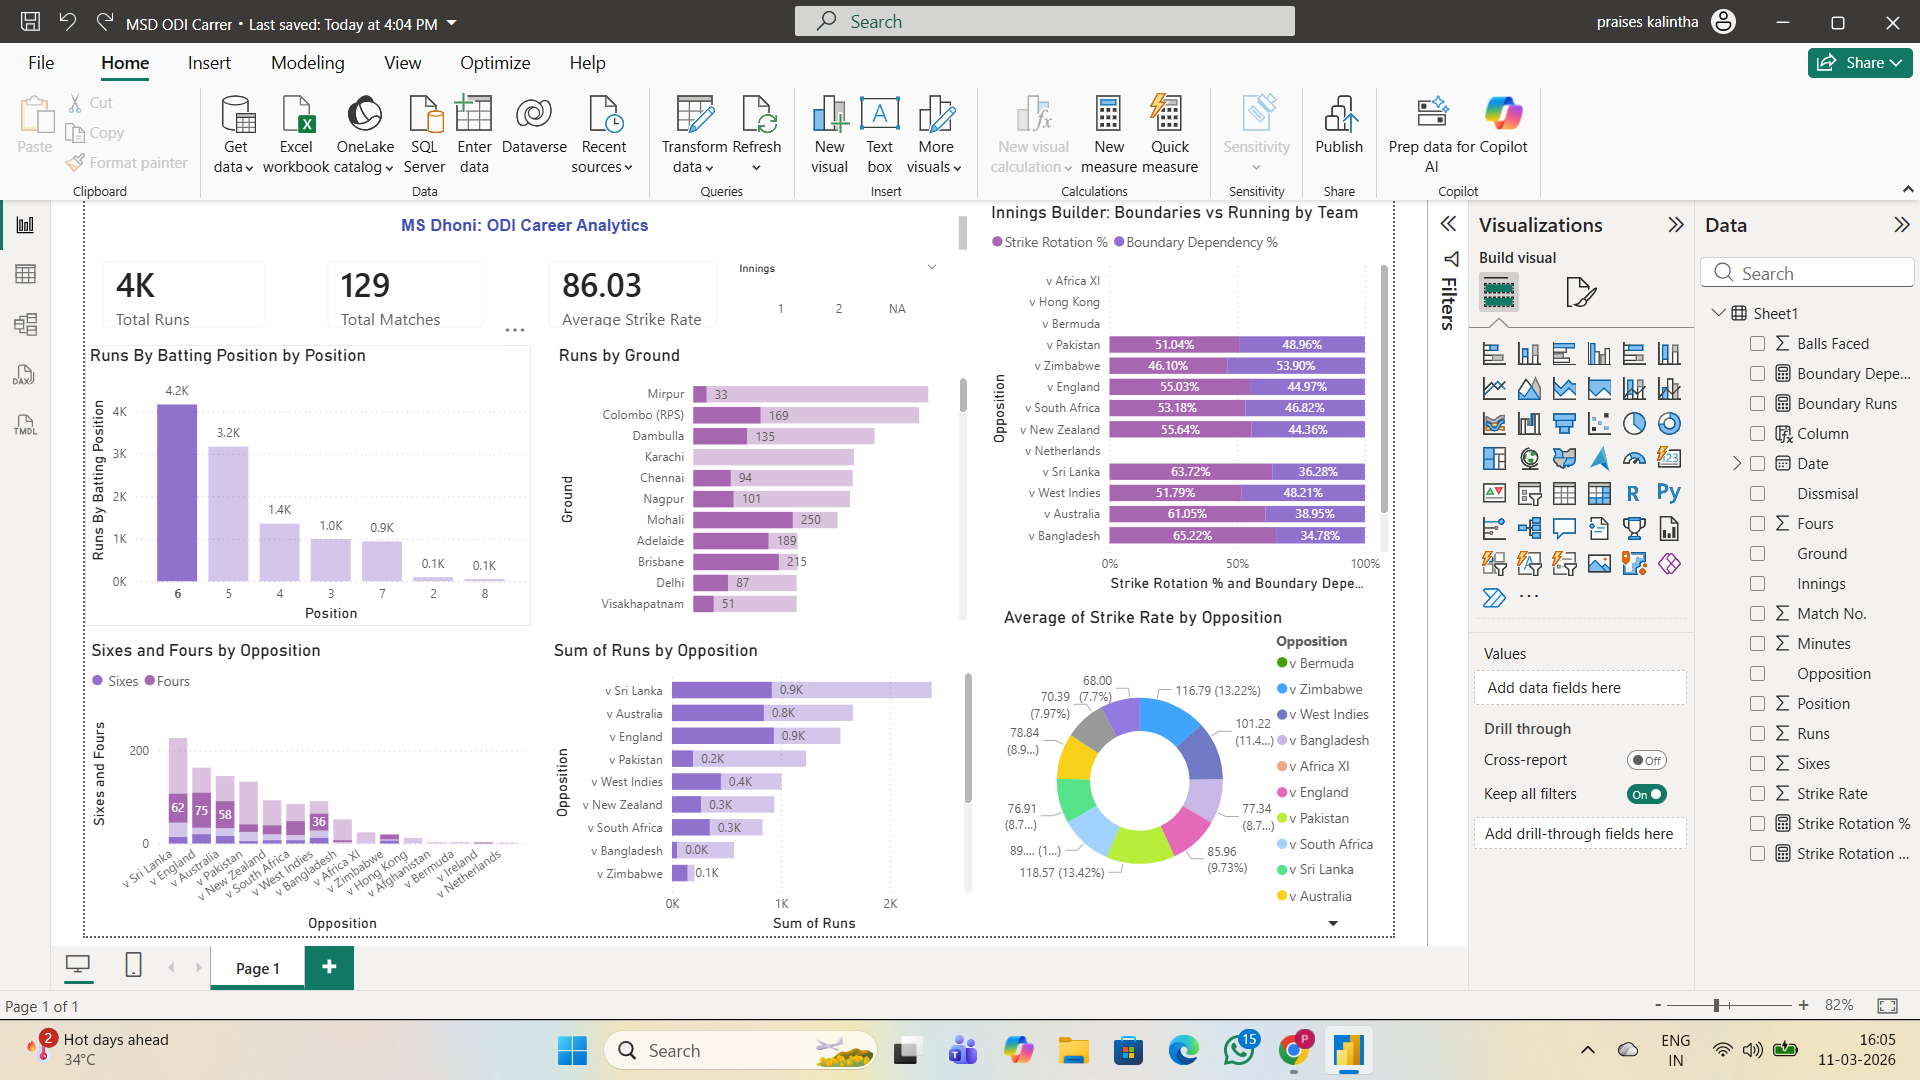

This screenshot's page, from the dashboard's own definition file:
{"tool":"powerbi","page":{"name":"Page 1","canvas":[1280,720],"ordinal":0},"visuals":[{"type":"columnChart","fields":{"Category":["Sheet1.Position"],"Y":["Sum(Sheet1.Runs)"]},"box":[0,141.8,436.6,275.1],"z":0},{"type":"columnChart","fields":{"Category":["Sheet1.Opposition"],"Y":["Sum(Sheet1.Sixes)","Sum(Sheet1.Fours)"]},"box":[1.2,430.4,435.3,289.8],"z":1000},{"type":"clusteredBarChart","fields":{"Y":["Sum(Sheet1.Runs)"],"Category":["Sheet1.Opposition"]},"box":[453.7,430.4,419.4,289.8],"z":2000},{"type":"donutChart","fields":{"Category":["Sheet1.Opposition"],"Y":["Avg(Sheet1.Strike Rate)"]},"box":[893.9,397.4,386.4,322.8],"z":3000},{"type":"cardVisual","fields":{"Data":["Sum(Sheet1.Runs)"]},"box":[0,42.8,193.2,99],"z":4000},{"type":"cardVisual","fields":{"Data":["CountNonNull(Sheet1.Match No.)"]},"box":[220.1,42.8,187.1,99],"z":5000},{"type":"cardVisual","fields":{"Data":["Avg(Sheet1.Strike Rate)"]},"box":[436.6,42.8,199.3,99],"z":6000},{"type":"barChart","fields":{"Category":["Sheet1.Ground"],"Y":["Sum(Sheet1.Runs)"]},"box":[458.6,141.8,409.6,275.1],"z":7000},{"type":"slicer","fields":{"Values":["Sheet1.Innings"]},"box":[627.3,55,218.9,86.8],"z":8000},{"type":"hundredPercentStackedBarChart","title":"Innings Builder: Boundaries vs Running by Team","fields":{"Category":["Sheet1.Opposition"],"Y":["Sheet1.Strike Rotation %","Sheet1.Boundary Dependency %"]},"box":[881.7,1.2,398.6,386.4],"z":9000},{"type":"textbox","box":[1.2,11,867,44],"z":10000}]}

Visuals, with their boxes on the page's 1280x720 design canvas (x1, y1, x2, y2). These are canvas units, not pixel positions in the 1920x1080 screenshot, which may show the page scaled, cropped or inside an application window:
columnChart - Sheet1.Position x Sum(Sheet1.Runs): {"left": 0, "top": 142, "right": 437, "bottom": 417}
columnChart - Sheet1.Opposition x Sum(Sheet1.Sixes): {"left": 1, "top": 430, "right": 436, "bottom": 720}
clusteredBarChart - Sum(Sheet1.Runs) x Sheet1.Opposition: {"left": 454, "top": 430, "right": 873, "bottom": 720}
donutChart - Sheet1.Opposition x Avg(Sheet1.Strike Rate): {"left": 894, "top": 397, "right": 1280, "bottom": 720}
cardVisual - Sum(Sheet1.Runs): {"left": 0, "top": 43, "right": 193, "bottom": 142}
cardVisual - CountNonNull(Sheet1.Match No.): {"left": 220, "top": 43, "right": 407, "bottom": 142}
cardVisual - Avg(Sheet1.Strike Rate): {"left": 437, "top": 43, "right": 636, "bottom": 142}
barChart - Sheet1.Ground x Sum(Sheet1.Runs): {"left": 459, "top": 142, "right": 868, "bottom": 417}
slicer - Sheet1.Innings: {"left": 627, "top": 55, "right": 846, "bottom": 142}
"Innings Builder: Boundaries vs Running by Team" hundredPercentStackedBarChart: {"left": 882, "top": 1, "right": 1280, "bottom": 388}
textbox: {"left": 1, "top": 11, "right": 868, "bottom": 55}
